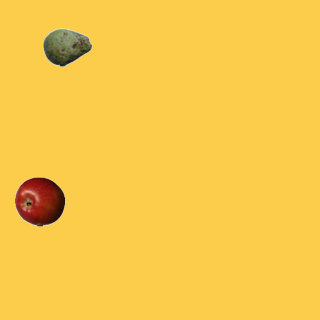Apple Braeburn: (14, 176, 64, 226)
Pear Stone: (42, 22, 92, 72)
